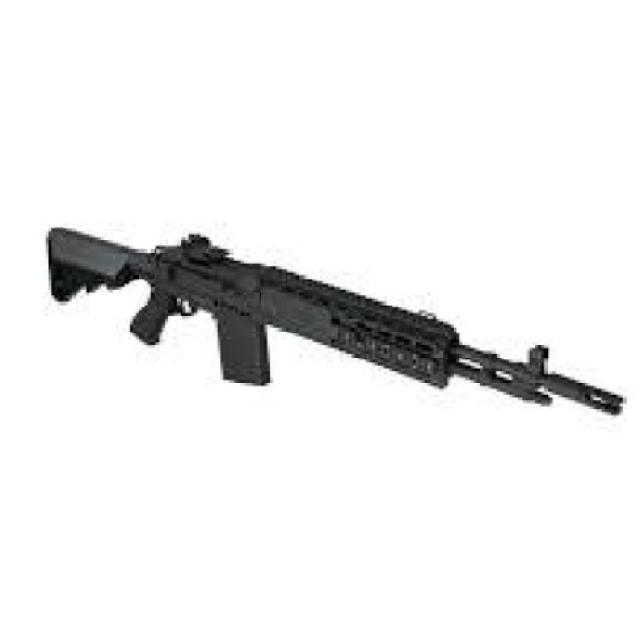Gun: (11, 171, 639, 511)
